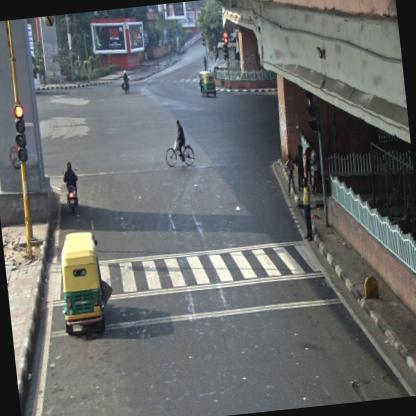motorcycle: (161, 118, 195, 166), (62, 161, 82, 215), (121, 70, 132, 94)
